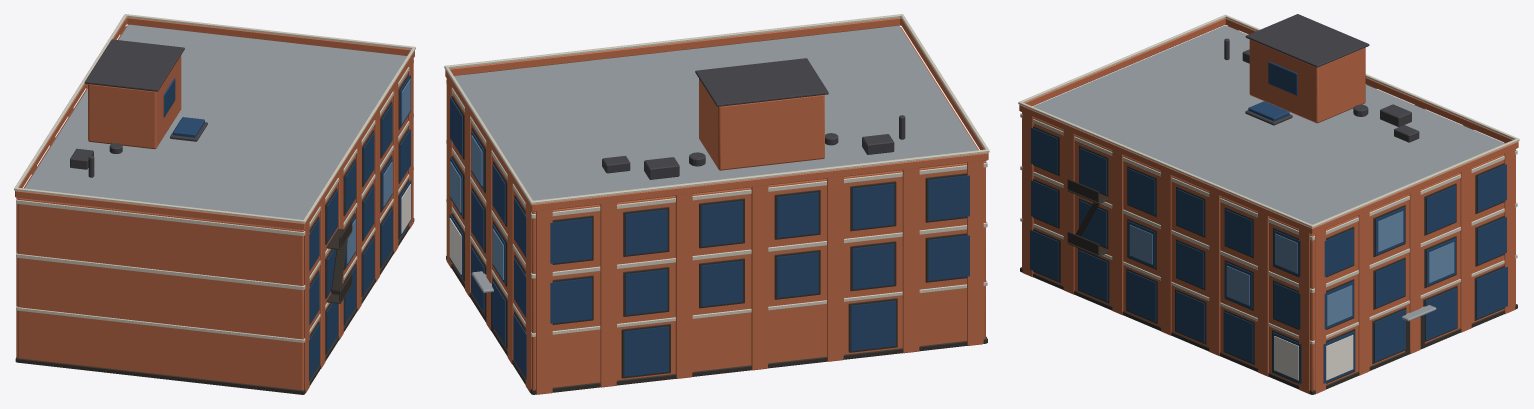
Rendered from mid.glb.
The picture shows the model from 3 angles, left to right: view 1: azimuth 30°, elevation 25°; view 2: azimuth 150°, elevation 25°; view 3: azimuth 270°, elevation 25°; orthographic projection. The views are drawn at different scales.
Visible parts, largest first — view 1: grp_Toy_brick, grp_Toy_steel, grp_Toy_stone, grp_Toy_glass, grp_Toy_ink, grp_Toy_roofd, grp_Toy_glass_Glow, grp_Toy_trim_Glow; view 2: grp_Toy_brick, grp_Toy_steel, grp_Toy_glass, grp_Toy_stone, grp_Toy_ink, grp_Toy_roofd, grp_Toy_glass_Glow, grp_Toy_trim_Glow; view 3: grp_Toy_brick, grp_Toy_steel, grp_Toy_glass, grp_Toy_ink, grp_Toy_stone, grp_Toy_roofd, grp_Toy_glass_Glow, grp_Toy_trim_Glow.
Part boxes in pixels (left/top/right/bottom): grp_Toy_brick: left=15, top=17, right=414, bottom=393; grp_Toy_steel: left=24, top=24, right=406, bottom=219; grp_Toy_stone: left=14, top=14, right=415, bottom=342; grp_Toy_glass: left=163, top=75, right=411, bottom=380; grp_Toy_ink: left=15, top=74, right=414, bottom=394; grp_Toy_roofd: left=70, top=39, right=207, bottom=177; grp_Toy_glass_Glow: left=347, top=79, right=410, bottom=263; grp_Toy_trim_Glow: left=401, top=184, right=410, bottom=233; grp_Toy_brick: left=445, top=17, right=988, bottom=394; grp_Toy_steel: left=454, top=25, right=977, bottom=292; grp_Toy_glass: left=449, top=97, right=969, bottom=379; grp_Toy_stone: left=444, top=14, right=989, bottom=337; grp_Toy_ink: left=446, top=96, right=987, bottom=394; grp_Toy_roofd: left=602, top=58, right=905, bottom=179; grp_Toy_glass_Glow: left=450, top=135, right=503, bottom=279; grp_Toy_trim_Glow: left=449, top=218, right=461, bottom=274; grp_Toy_brick: left=1019, top=18, right=1518, bottom=394; grp_Toy_steel: left=1033, top=25, right=1504, bottom=321; grp_Toy_glass: left=1030, top=61, right=1507, bottom=383; grp_Toy_ink: left=1020, top=126, right=1517, bottom=394; grp_Toy_stone: left=1018, top=14, right=1519, bottom=344; grp_Toy_roofd: left=1224, top=14, right=1419, bottom=142; grp_Toy_glass_Glow: left=1129, top=211, right=1454, bottom=326; grp_Toy_trim_Glow: left=1274, top=335, right=1353, bottom=380.
Bounding box in the file's own units: 36.3 × 17.72 × 36.3.
